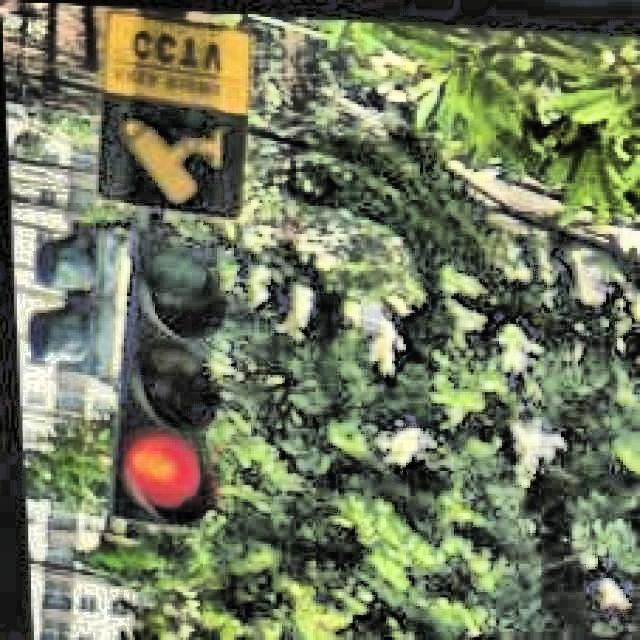red: (112, 226, 224, 516)
